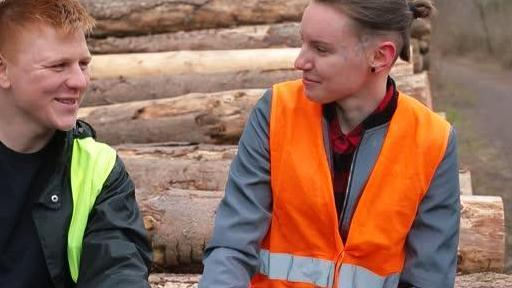Vest: (257, 84, 424, 288)
